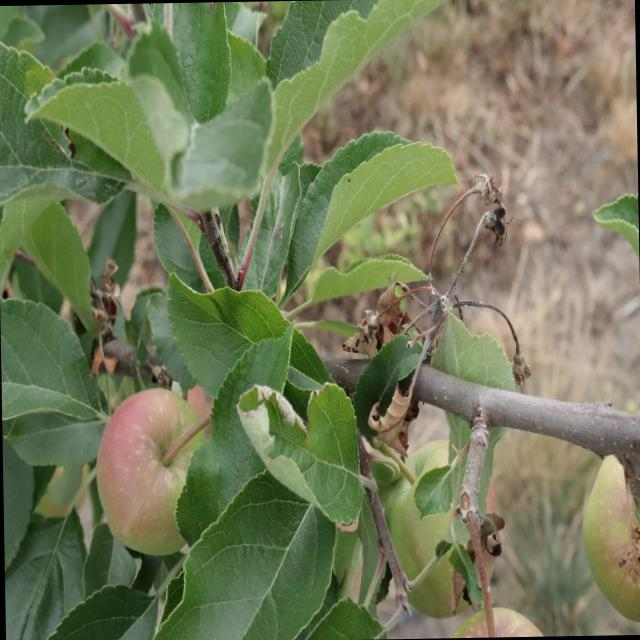-FireBlight-: (443, 514, 506, 630), (342, 283, 422, 357), (362, 362, 417, 453)
